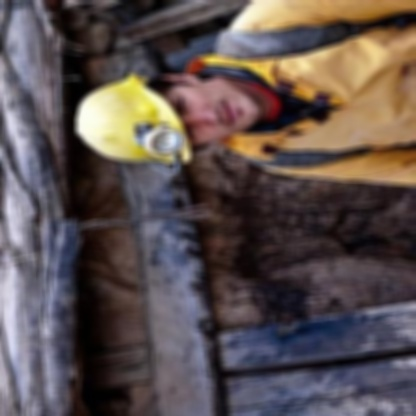yellow: (70, 67, 198, 173)
